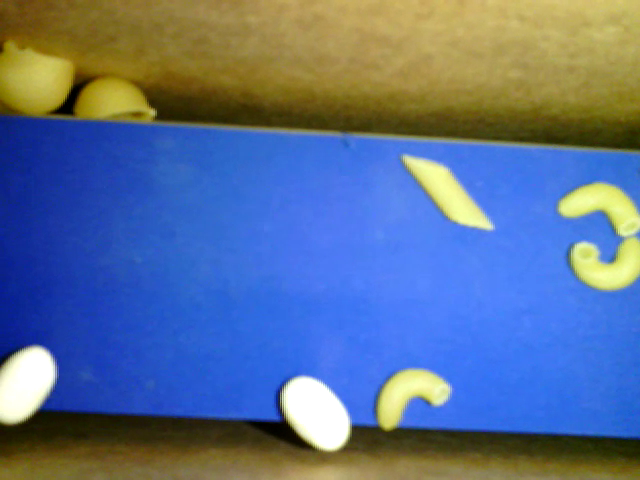elbow: (553, 175, 639, 239), (375, 366, 454, 428), (570, 235, 639, 292)
penne: (398, 151, 492, 231)
shell: (1, 41, 80, 121), (69, 73, 156, 122)
